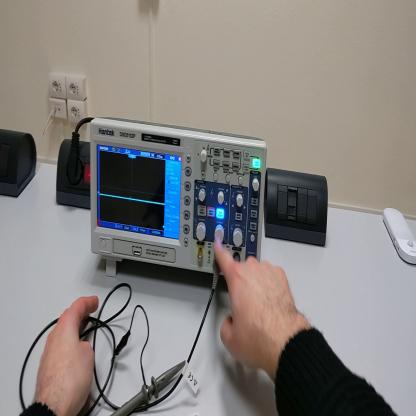hand: (212, 230, 303, 377), (33, 297, 99, 408)
oscilloscope: (89, 117, 267, 279)
oscilloscope probe tip: (111, 359, 188, 414)
socket: (2, 129, 40, 199), (57, 138, 91, 209)
